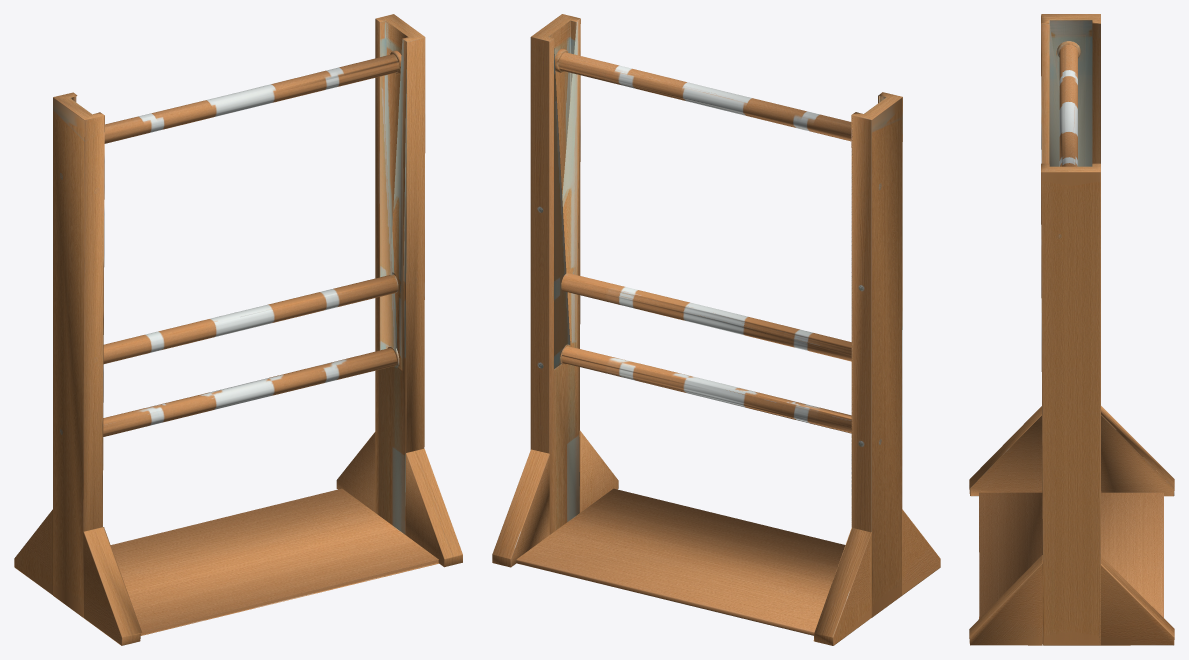
File: jump_standard.glb
3 views of the same model, side by side, from view 1: azimuth 30°, elevation 25°; view 2: azimuth 150°, elevation 25°; view 3: azimuth 270°, elevation 25° (orthographic). The views are drawn at different scales.
Visible parts, largest first — view 1: jump_standard; view 2: jump_standard; view 3: jump_standard.
Part boxes in pixels (left/top/right/bottom): jump_standard: left=14, top=14, right=462, bottom=645; jump_standard: left=492, top=14, right=940, bottom=645; jump_standard: left=969, top=14, right=1174, bottom=645.
Size of the model in its own units: 1.15 by 1.6 by 0.6279.
Materials: 1 (1 with a texture image).
